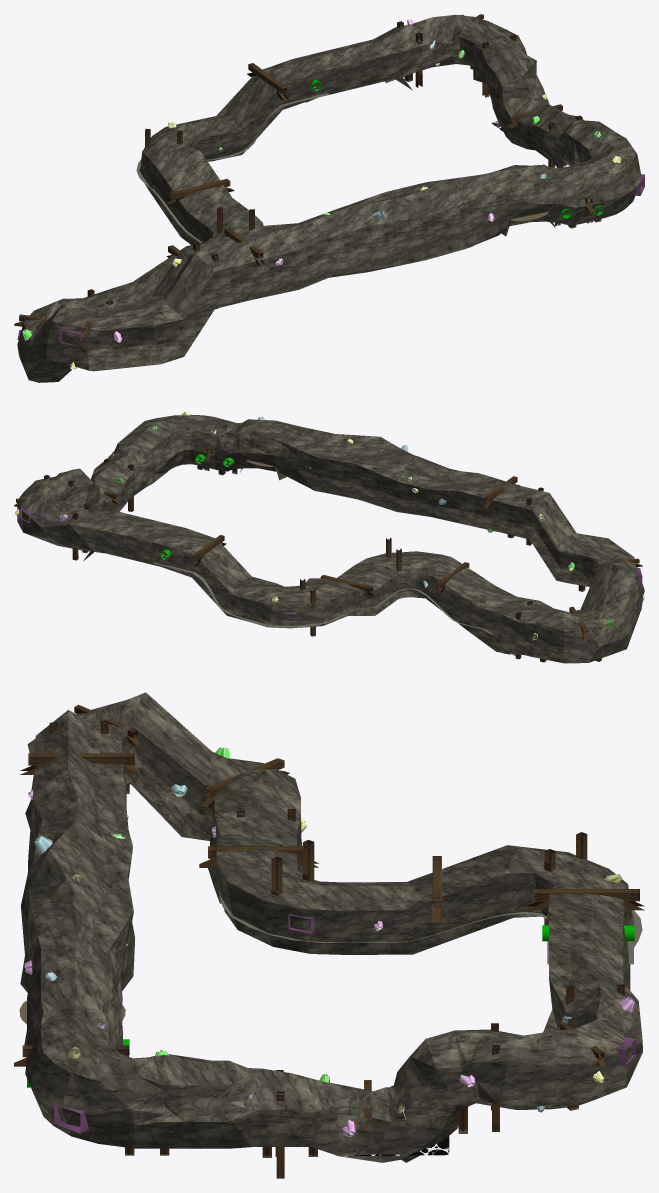
3 views of the same model, one above another, from view 1: azimuth 30°, elevation 25°; view 2: azimuth 150°, elevation 25°; view 3: azimuth 270°, elevation 25° (orthographic). The views are drawn at different scales.
Parts seen in each view (by area): view 1: Circle.112, Circle.104, Circle.116; view 2: Circle.112, Circle.104, Circle.116; view 3: Circle.112, Circle.104, Circle.116, Circle.111, Mesh_0281.006, Circle.105.
Part boxes in pixels (<box>): Circle.112: <box>17,14,641,382</box>; Circle.104: <box>14,14,595,337</box>; Circle.116: <box>136,93,329,242</box>; Circle.112: <box>17,414,644,663</box>; Circle.104: <box>14,446,642,659</box>; Circle.116: <box>153,562,493,634</box>; Circle.112: <box>20,692,642,1162</box>; Circle.104: <box>14,704,644,1178</box>; Circle.116: <box>219,889,642,964</box>; Circle.111: <box>54,914,635,1133</box>; Mesh_0281.006: <box>24,790,635,1136</box>; Circle.105: <box>125,784,578,1157</box>.
Bounding box in the file's own units: 79806 × 19884 × 46233.
21 materials, 21 textured.
